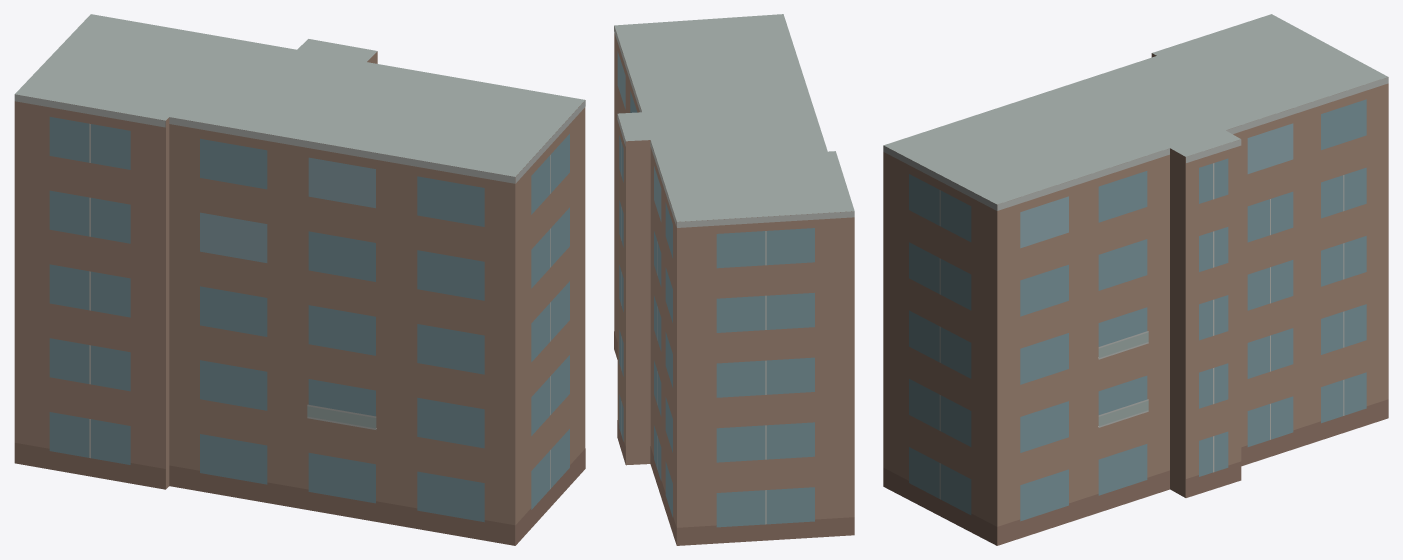
Rendered from survey-upis-32595415.glb.
3 views of the same model, side by side, from view 1: azimuth 30°, elevation 25°; view 2: azimuth 150°, elevation 25°; view 3: azimuth 270°, elevation 25° (orthographic). The views are drawn at different scales.
Visible parts, largest first — view 1: survey-upis-32595415.tmp; view 2: survey-upis-32595415.tmp; view 3: survey-upis-32595415.tmp.
Part boxes in pixels (bbox=[...]): survey-upis-32595415.tmp: bbox=[14, 14, 585, 545]; survey-upis-32595415.tmp: bbox=[614, 14, 854, 545]; survey-upis-32595415.tmp: bbox=[883, 14, 1388, 545].
Bounding box in the file's own units: 15.52 × 12.95 × 17.38.
